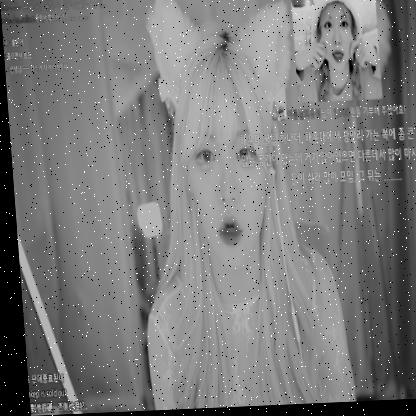donation: (229, 0, 416, 191)
streamer: (120, 0, 355, 412)
